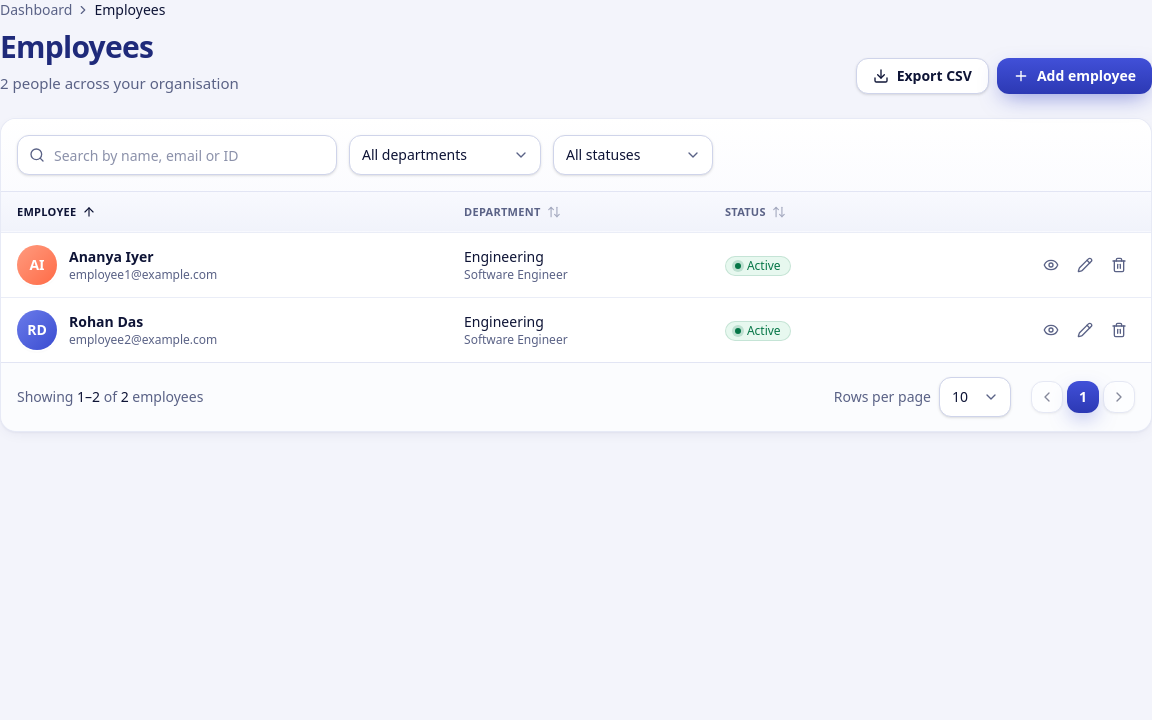
Test: <EmployeeDirectory> › delete › deletes after confirmation and refreshes the list
The image size is (1152, 720).
Click the button named "Delete Ananya Iyer" at x=1119, y=264, box x1=1103 y1=248 x2=1135 y2=280
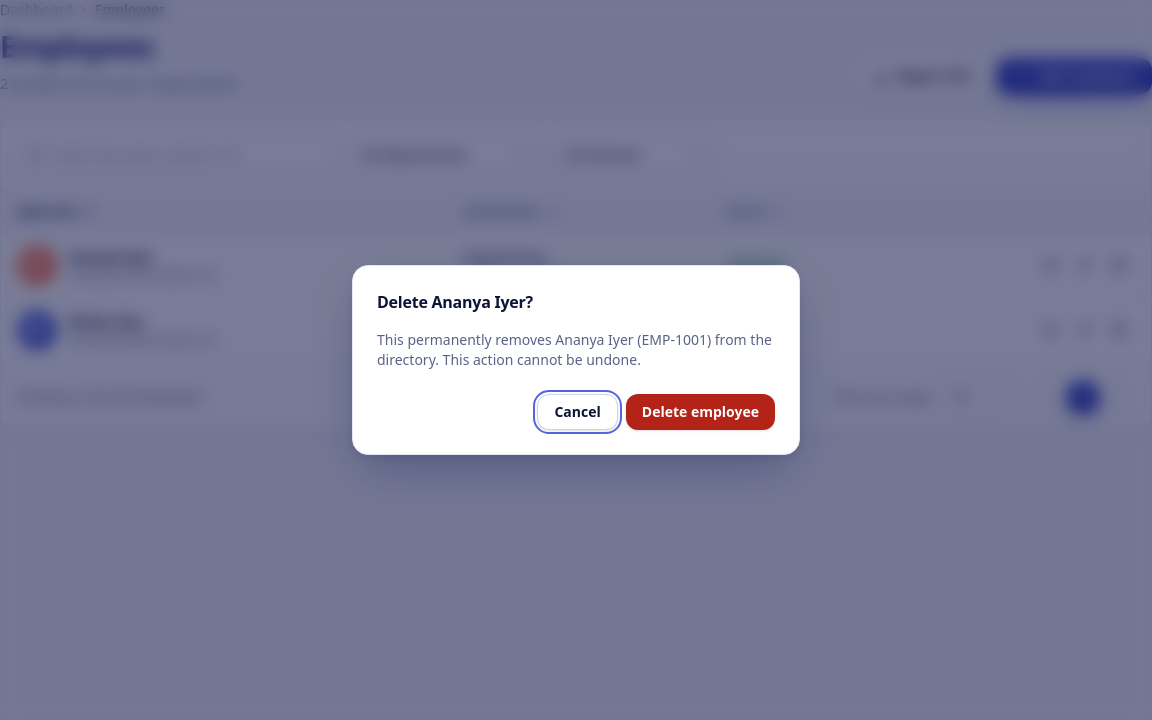
Click the button "Delete employee" at x=700, y=412, box x1=626 y1=394 x2=775 y2=430
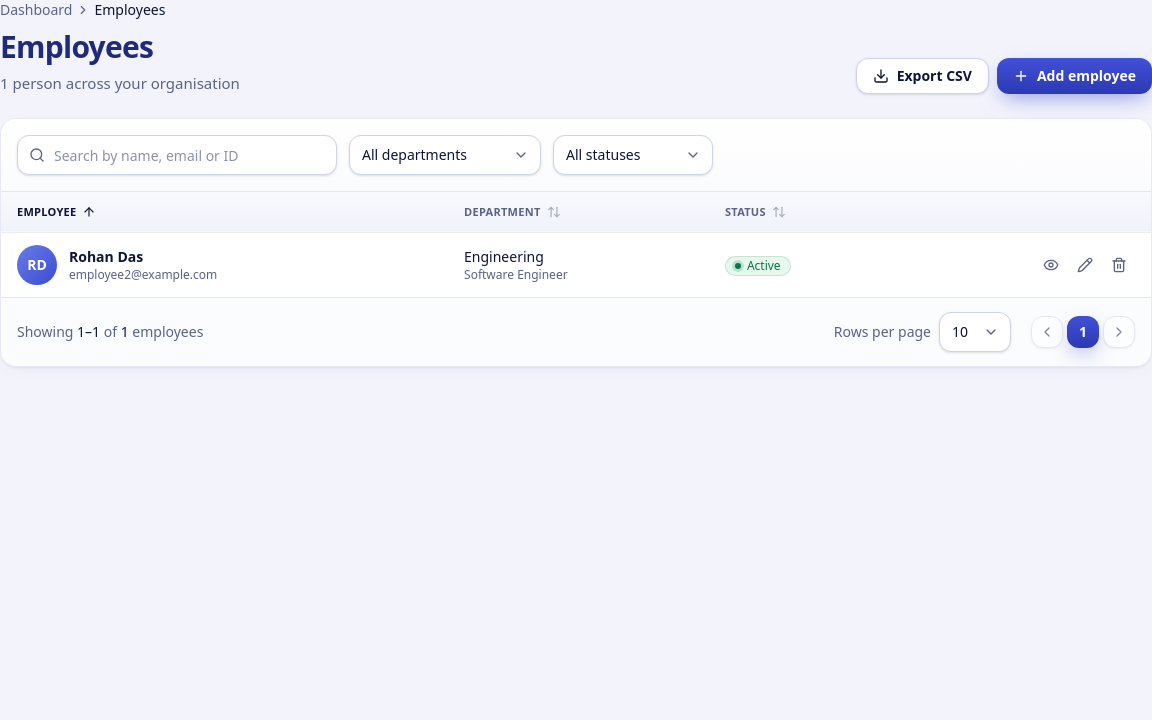
Check: the link "Rohan Das" is shown, box x1=69 y1=246 x2=143 y2=266
Check: the link "Ananya Iyer" is gone
